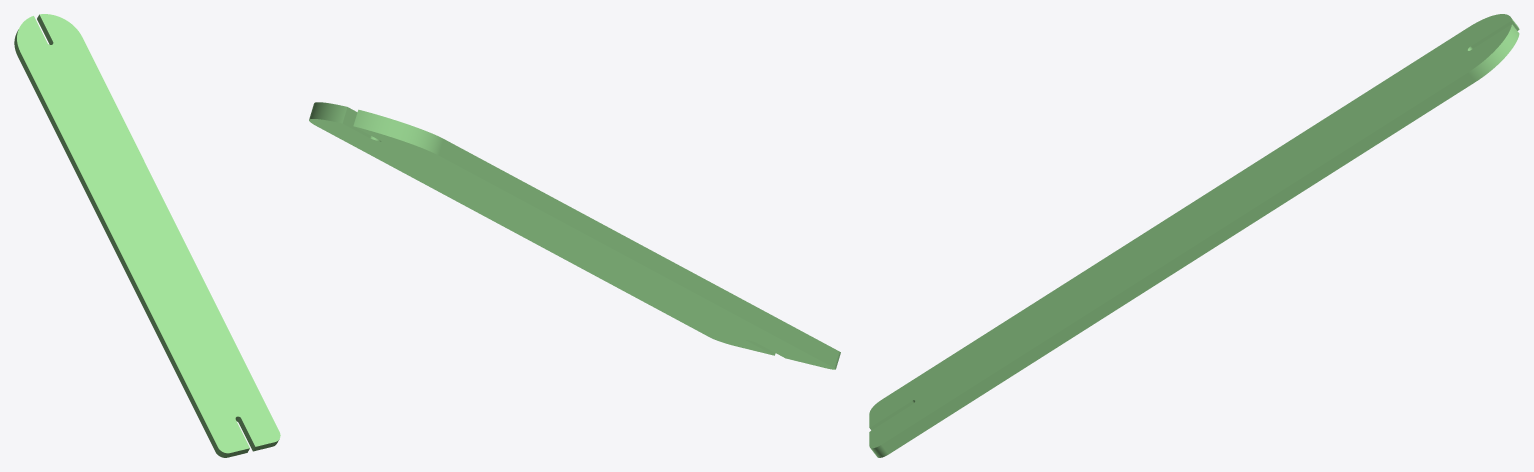
The model's file is piezabarra.glb.
The picture shows the model from 3 angles, left to right: view 1: azimuth 30°, elevation 25°; view 2: azimuth 150°, elevation 25°; view 3: azimuth 270°, elevation 25°; orthographic projection. The views are drawn at different scales.
Parts seen in each view (by area): view 1: Componente3; view 2: Componente3; view 3: Componente3.
Boxes of the visible parts, <box> form: Componente3: <box>14,14,280,457</box>; Componente3: <box>309,102,840,369</box>; Componente3: <box>869,14,1519,457</box>.
Size of the model in its own units: 81.61 by 354 by 500.
